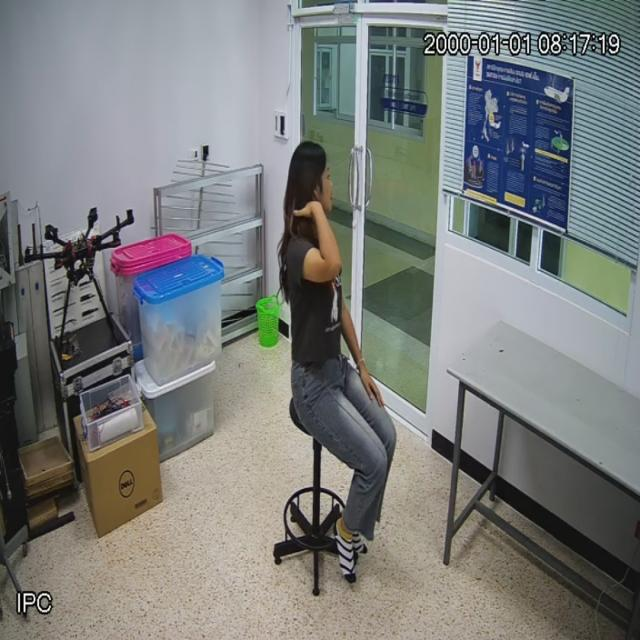normal: (275, 128, 403, 592)
